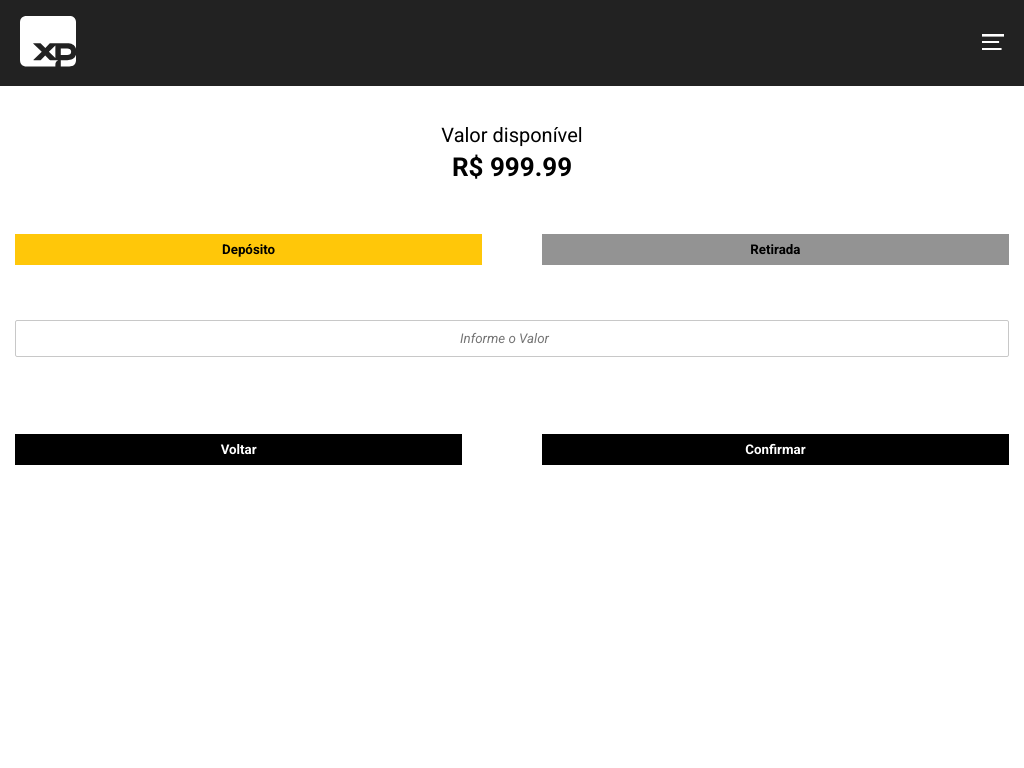
Verifica se › O redirecionamento para a página inicial é feito corretamente
Click the 2nd button at (993, 43), box [982, 15, 1004, 71]
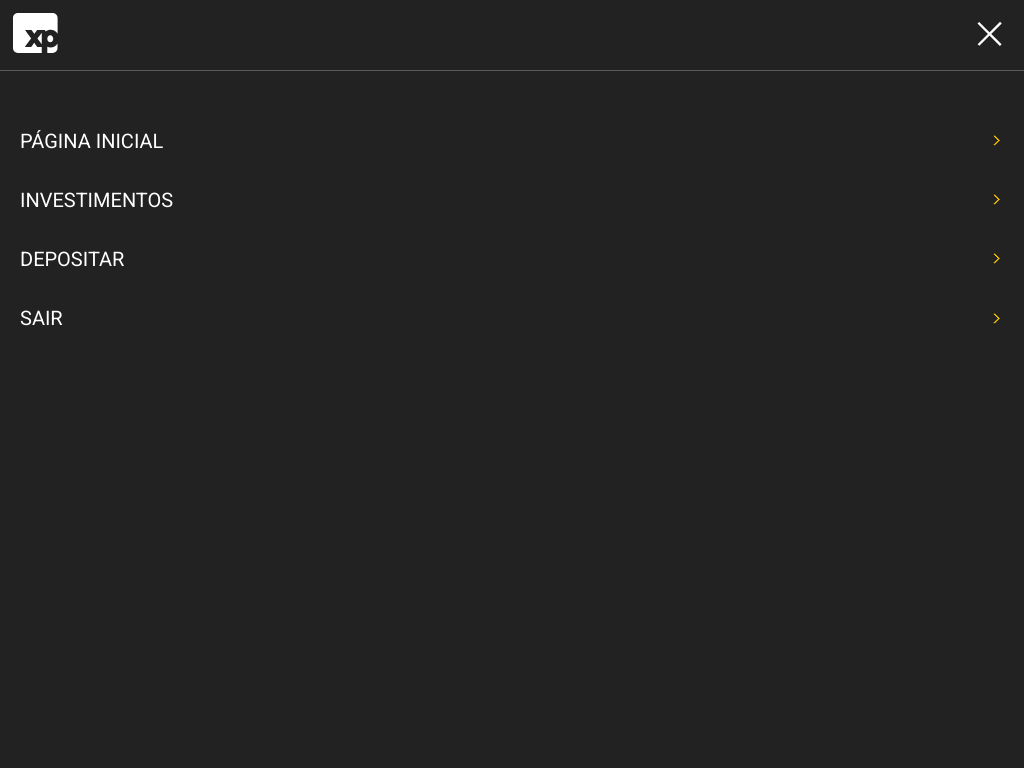
Click the link "Página Inicial" at (92, 141), box [20, 129, 163, 153]
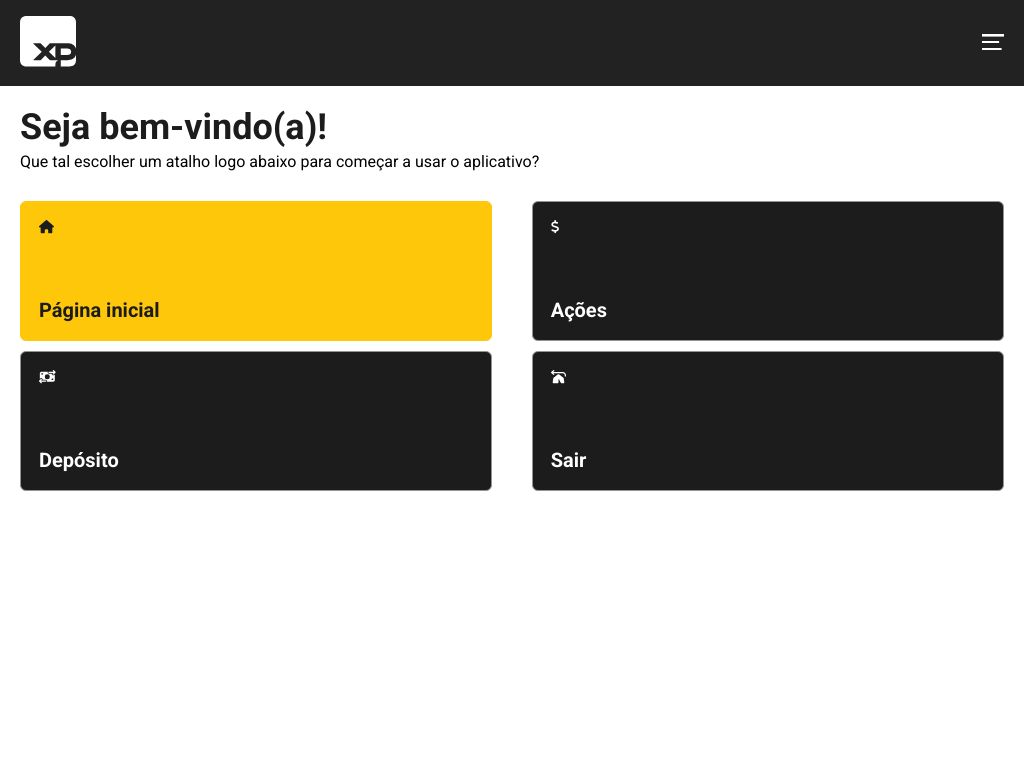
Expected: the heading "Seja bem-vindo(a)!" is shown, [20, 106, 327, 148]
